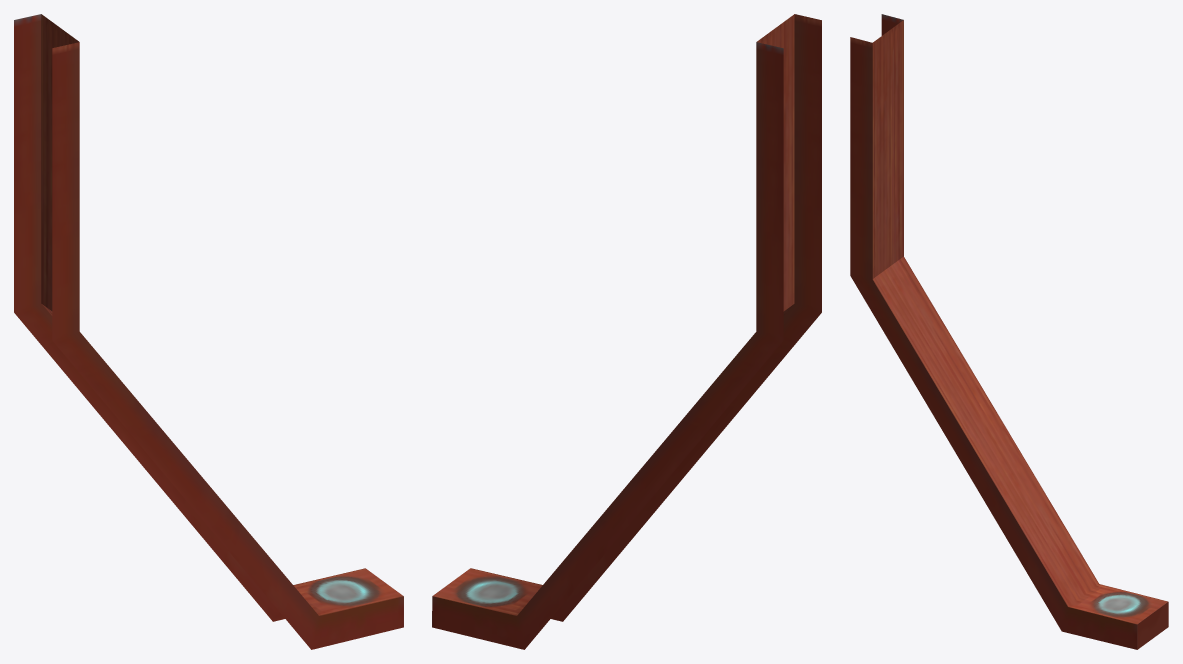
The model's file is FB_ShenLou_07.FBX.
3 views of the same model, side by side, from view 1: azimuth 30°, elevation 25°; view 2: azimuth 150°, elevation 25°; view 3: azimuth 330°, elevation 25° (orthographic). The views are drawn at different scales.
Parts seen in each view (by area): view 1: Object75; view 2: Object75; view 3: Object75.
Boxes of the visible parts, x1,y1,x2,y2 form: Object75: (14,14,403,649); Object75: (432,14,821,649); Object75: (850,14,1168,649).
Size of the model in its own units: 3.52 by 6.36 by 0.6673.
